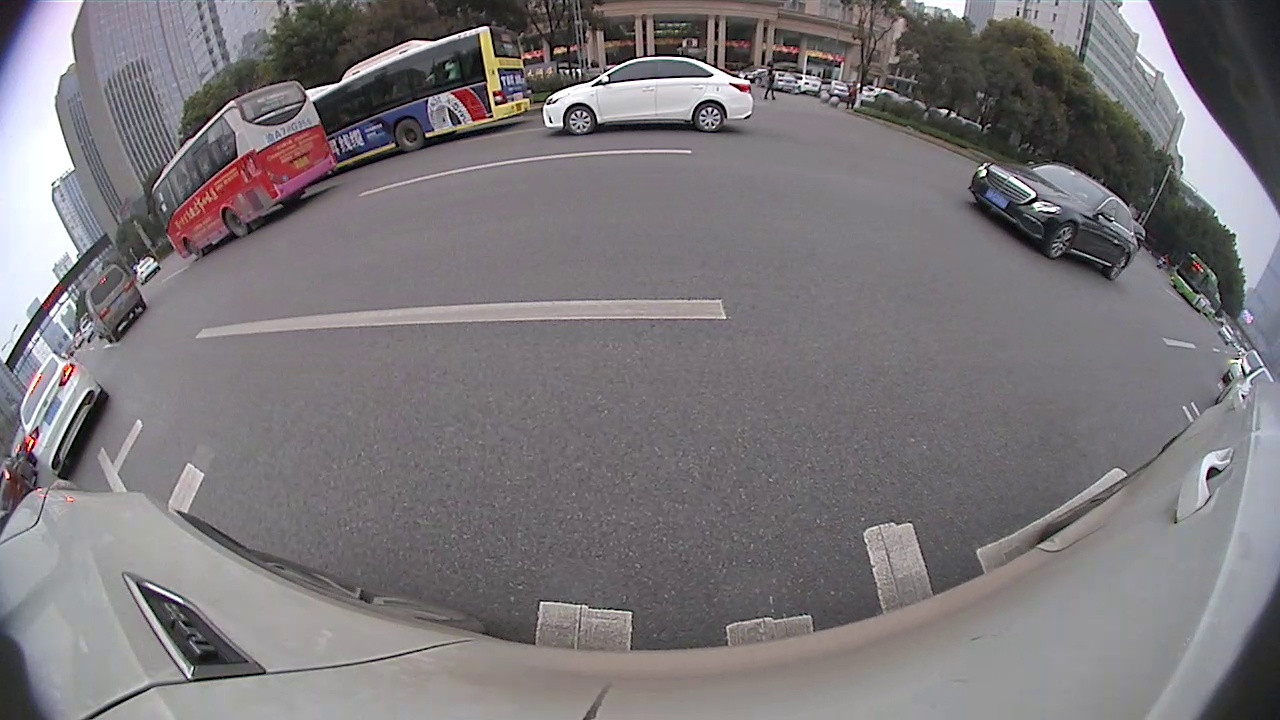bus: (308, 25, 531, 171), (150, 81, 332, 258)
car: (970, 163, 1138, 281), (543, 55, 753, 136), (20, 354, 106, 479), (84, 263, 147, 344)
front: (562, 103, 596, 137), (1048, 223, 1077, 261)
rear: (393, 117, 425, 151), (693, 103, 726, 133), (224, 208, 250, 239), (1106, 253, 1133, 281)
